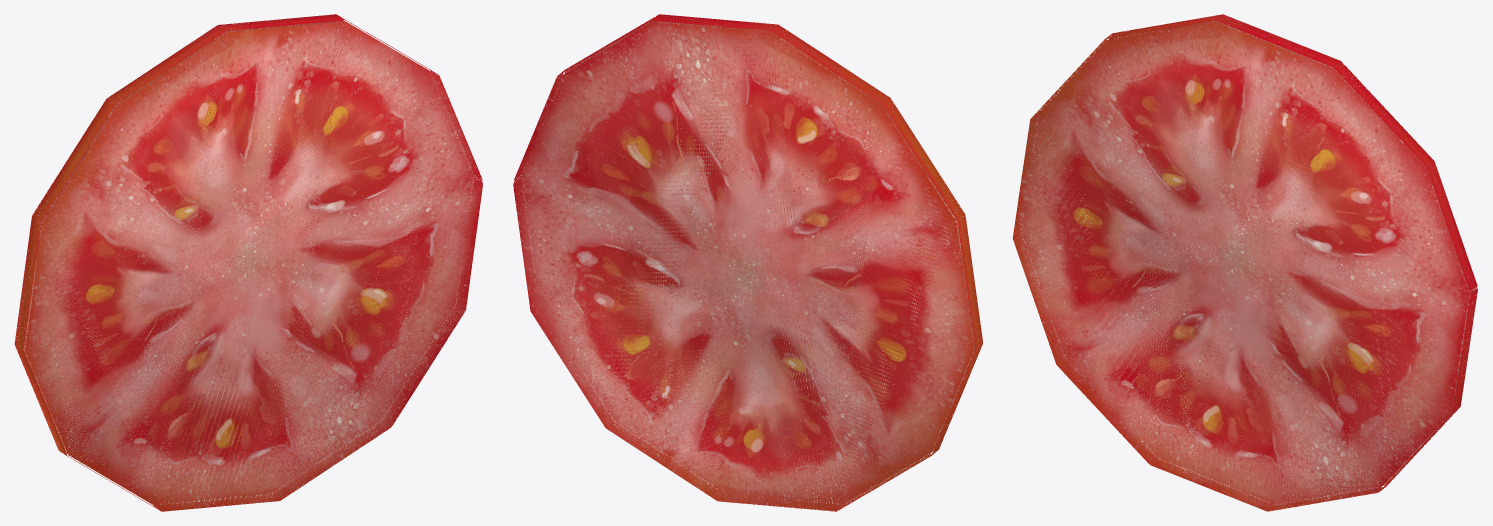
3 views of the same model, side by side, from view 1: azimuth 30°, elevation 25°; view 2: azimuth 150°, elevation 25°; view 3: azimuth 330°, elevation 25° (orthographic).
Visible parts, largest first — view 1: Circle.004_Material.001_0; view 2: Circle.004_Material.001_0; view 3: Circle.004_Material.001_0.
Part boxes in pixels (x1=…): Circle.004_Material.001_0: x1=14, y1=14, x2=482, y2=511; Circle.004_Material.001_0: x1=513, y1=14, x2=982, y2=511; Circle.004_Material.001_0: x1=1012, y1=14, x2=1477, y2=511.
Bounding box in the file's own units: 0.11 × 0.11 × 0.00434.
1 material, 1 textured.
